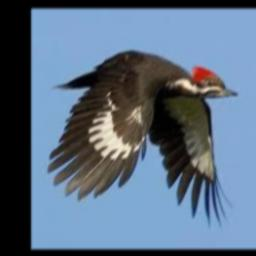Woodpecker: (48, 50, 238, 231)
